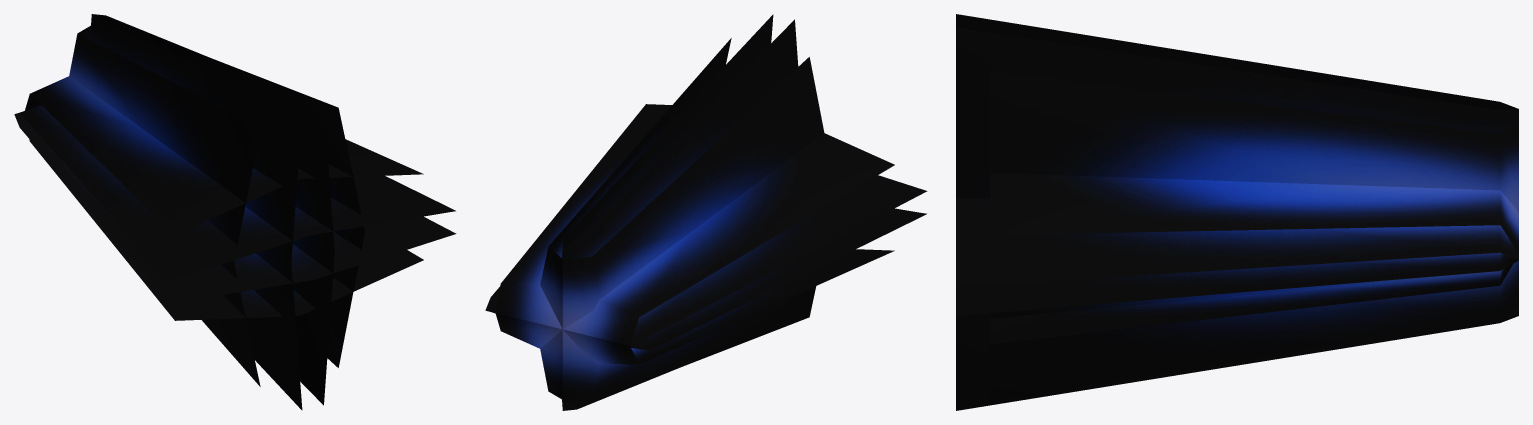
Rendered from Bloom02.FBX.
3 renders of one model, left to right at view 1: azimuth 30°, elevation 25°; view 2: azimuth 150°, elevation 25°; view 3: azimuth 270°, elevation 25°, orthographic. The views are drawn at different scales.
Parts seen in each view (by area): view 1: Bloom2; view 2: Bloom2; view 3: Bloom2.
Boxes of the visible parts, box(x1,y1,x2,y2) form: Bloom2: box(14, 14, 456, 410); Bloom2: box(485, 14, 927, 410); Bloom2: box(956, 14, 1518, 410).
Bounding box in the file's own units: 413 × 416 × 553.
